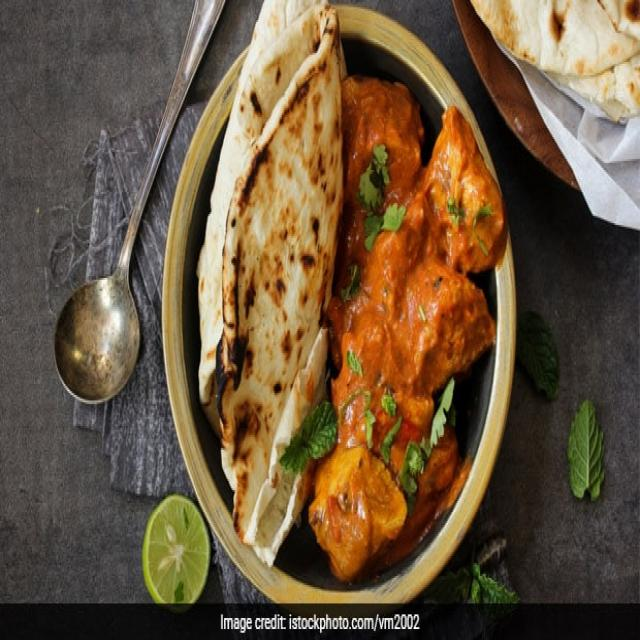Butter Chicken: (361, 95, 469, 525)
